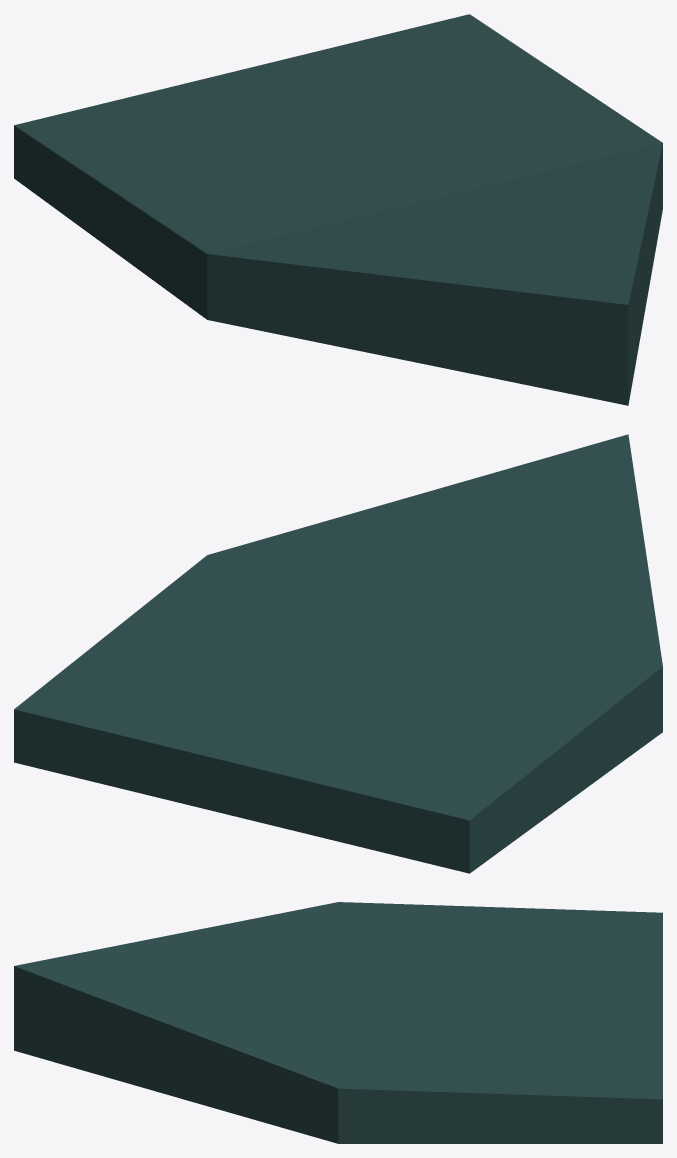
File: Prop_Gothic_Building_Roof_Tile_Decoration_01.FBX
3 views of the same model, one above another, from view 1: azimuth 30°, elevation 25°; view 2: azimuth 150°, elevation 25°; view 3: azimuth 270°, elevation 25° (orthographic). The views are drawn at different scales.
Parts seen in each view (by area): view 1: Prop_Gothic_Building_Roof_Tile_Decoration_01; view 2: Prop_Gothic_Building_Roof_Tile_Decoration_01; view 3: Prop_Gothic_Building_Roof_Tile_Decoration_01.
Boxes of the visible parts, left/top/right/bottom form: Prop_Gothic_Building_Roof_Tile_Decoration_01: left=14, top=14, right=662, bottom=405; Prop_Gothic_Building_Roof_Tile_Decoration_01: left=14, top=434, right=662, bottom=873; Prop_Gothic_Building_Roof_Tile_Decoration_01: left=14, top=902, right=662, bottom=1143.
Size of the model in its own units: 206 by 43.65 by 303.
